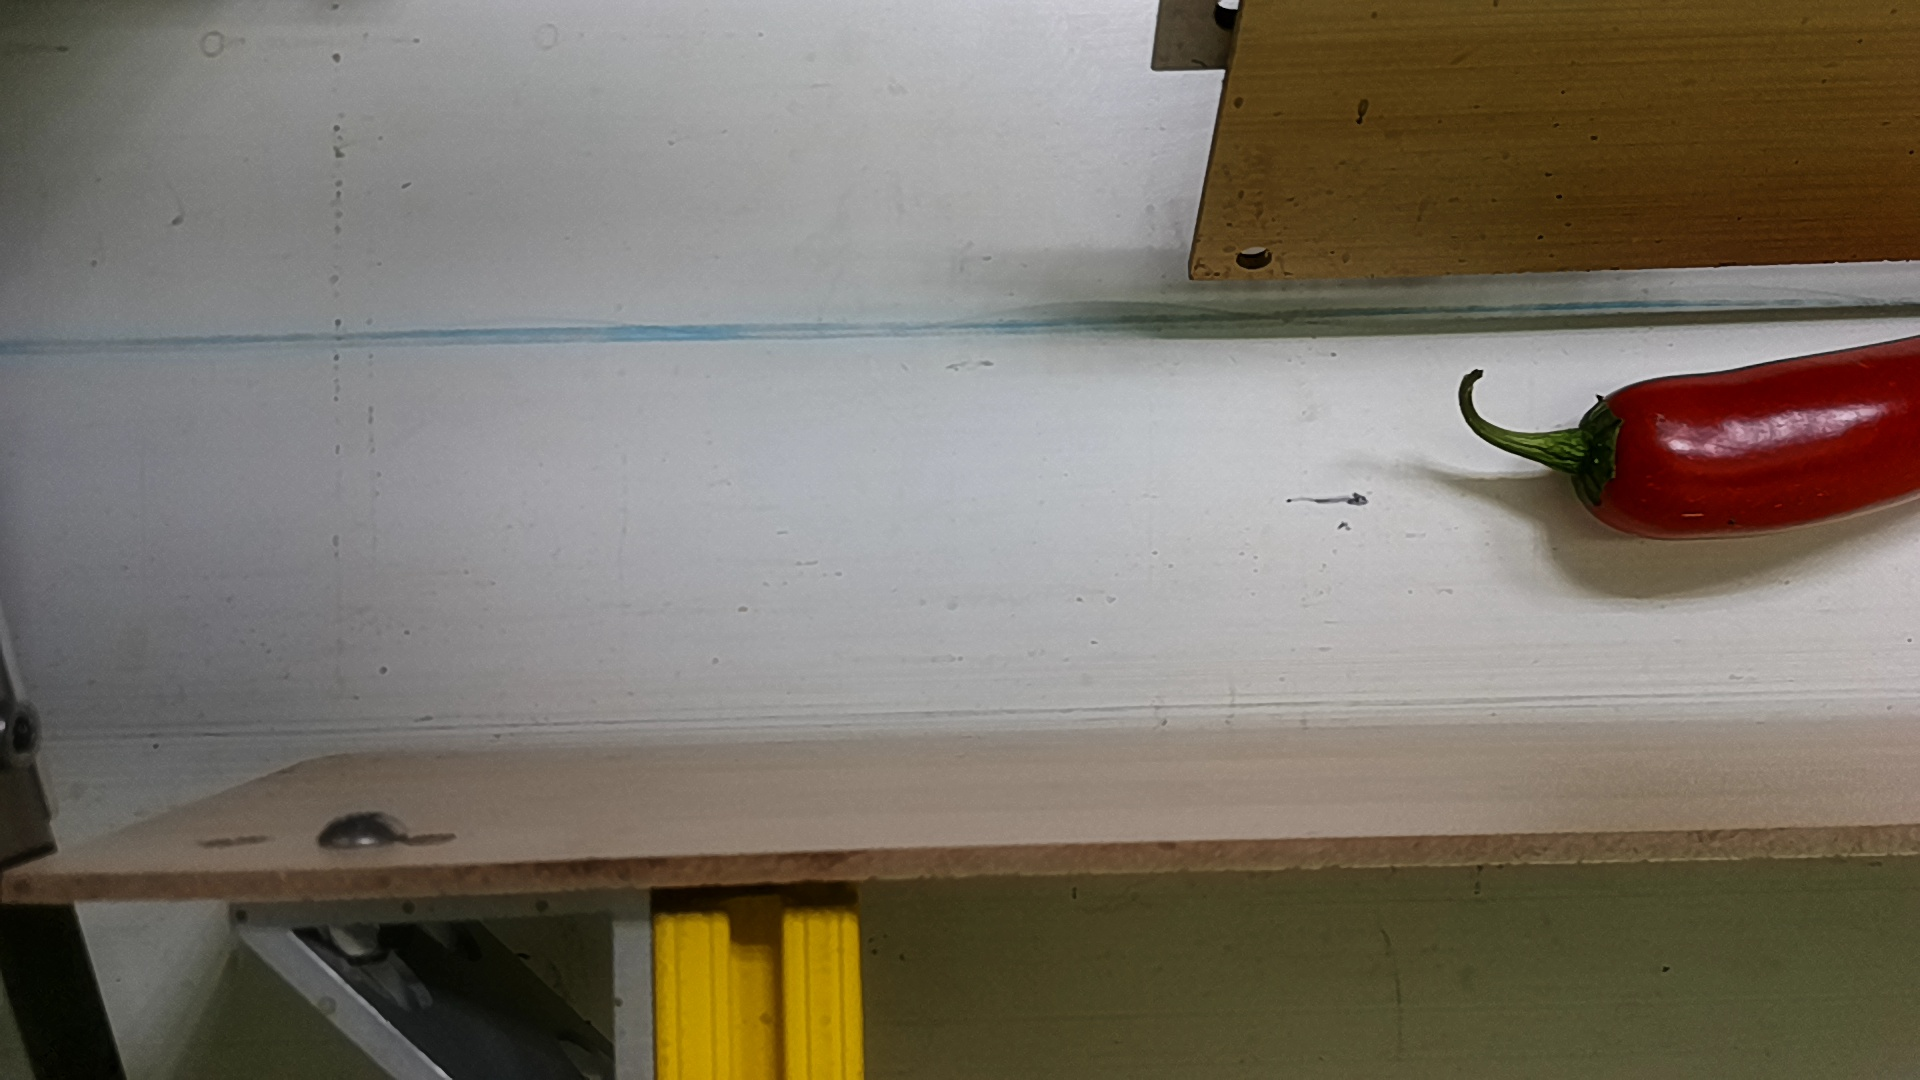Cut Point: (1561, 373, 1669, 549)
